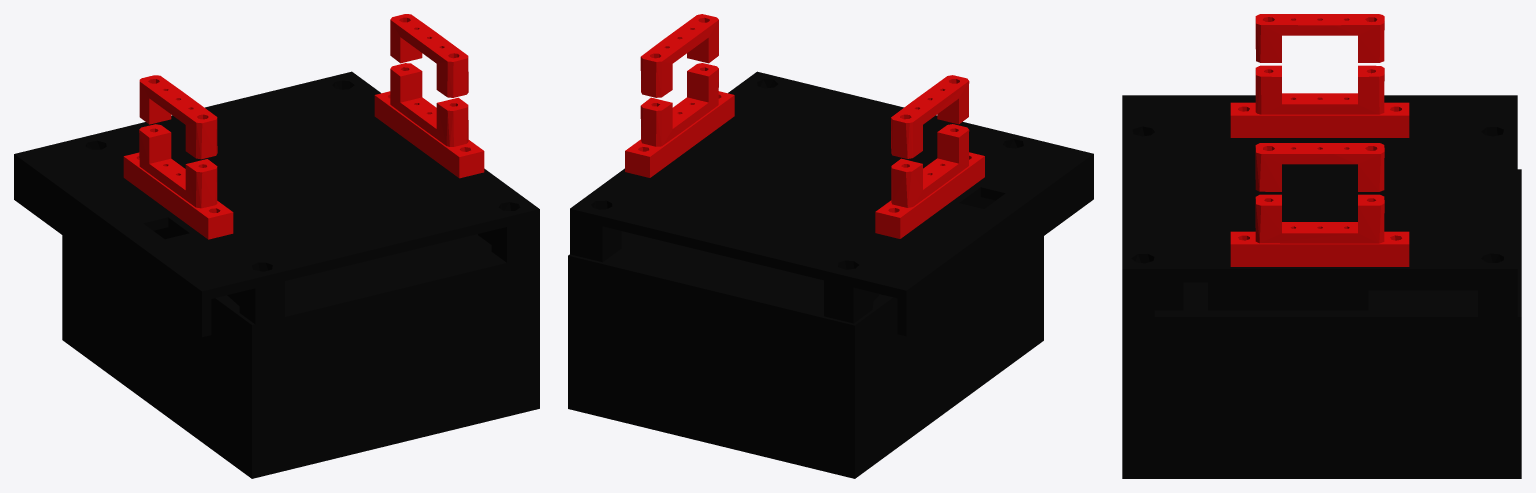
File: xavier.dae
The picture shows the model from 3 angles, left to right: view 1: azimuth 30°, elevation 25°; view 2: azimuth 150°, elevation 25°; view 3: azimuth 270°, elevation 25°; orthographic projection. The views are drawn at different scales.
Parts seen in each view (by area): view 1: Black, Red; view 2: Black, Red; view 3: Black, Red.
Part boxes in pixels (x1=…): Black: x1=14, y1=71, x2=539, y2=478; Red: x1=123, y1=14, x2=484, y2=239; Black: x1=568, y1=71, x2=1093, y2=478; Red: x1=625, y1=14, x2=984, y2=238; Black: x1=1122, y1=95, x2=1521, y2=478; Red: x1=1230, y1=14, x2=1409, y2=266.
Size of the model in its own units: 0.108 by 0.105 by 0.0935.
